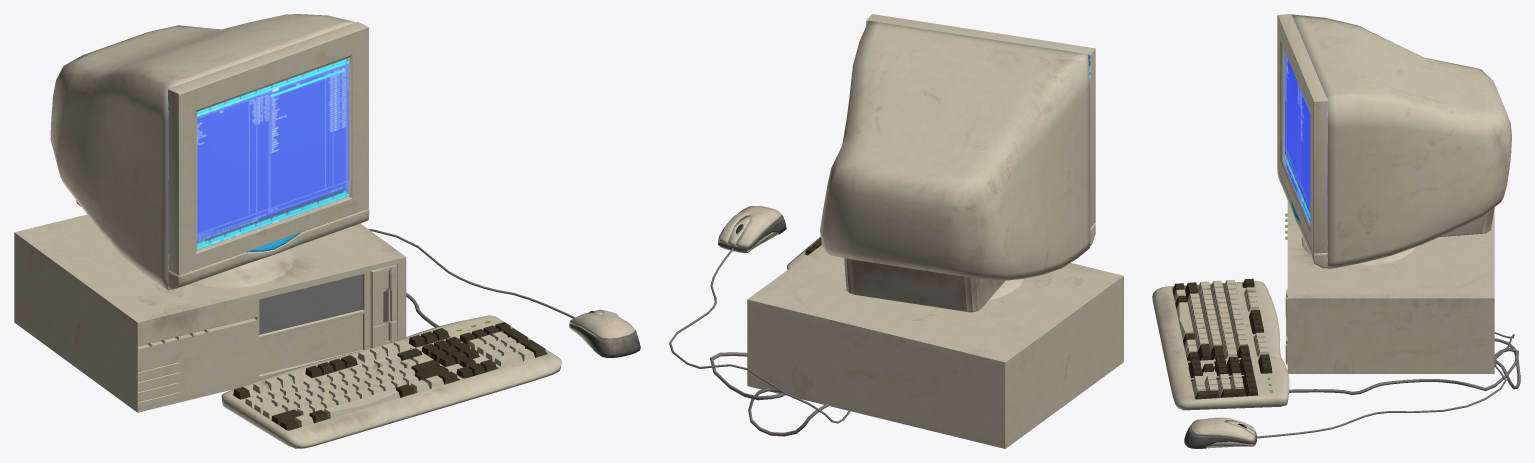
Rendered from computer.glb.
The picture shows the model from 3 angles, left to right: view 1: azimuth 30°, elevation 25°; view 2: azimuth 150°, elevation 25°; view 3: azimuth 270°, elevation 25°; orthographic projection. The views are drawn at different scales.
Visible parts, largest first — view 1: Old_Computer_Old_Computer_0, Old_Computer_Glass_0; view 2: Old_Computer_Old_Computer_0; view 3: Old_Computer_Old_Computer_0, Old_Computer_Glass_0.
Part boxes in pixels (x1,y1,x2,y2): Old_Computer_Old_Computer_0: (14, 14, 640, 448); Old_Computer_Glass_0: (196, 58, 350, 250); Old_Computer_Old_Computer_0: (669, 14, 1123, 448); Old_Computer_Old_Computer_0: (1152, 14, 1520, 448); Old_Computer_Glass_0: (1281, 46, 1309, 227).
Size of the model in its own units: 21.71 by 16.05 by 18.46.
Materials: 2 (1 with a texture image).
